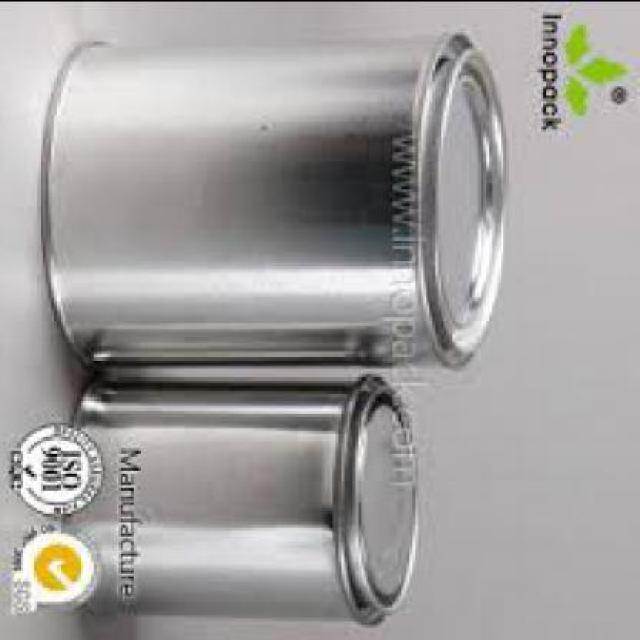METAL: (45, 28, 510, 367), (62, 370, 424, 622)
